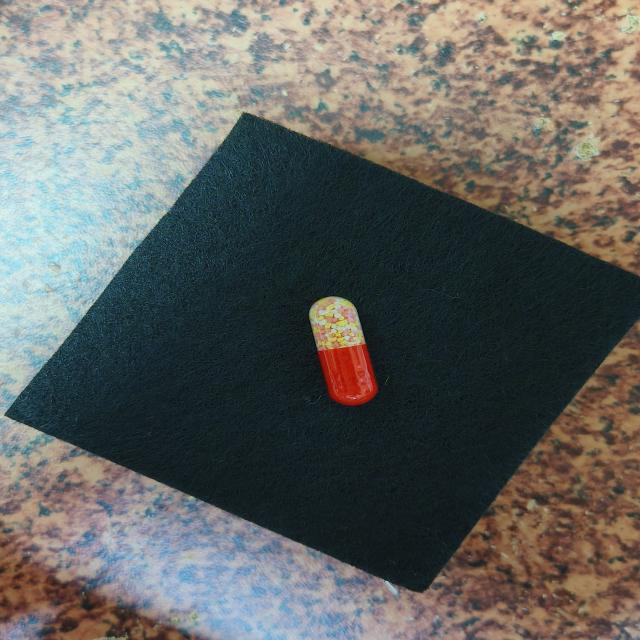Intact Capsule: (309, 296, 378, 406)
